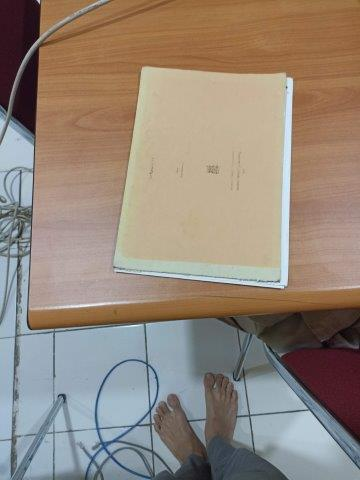kertas: (112, 66, 293, 288)
